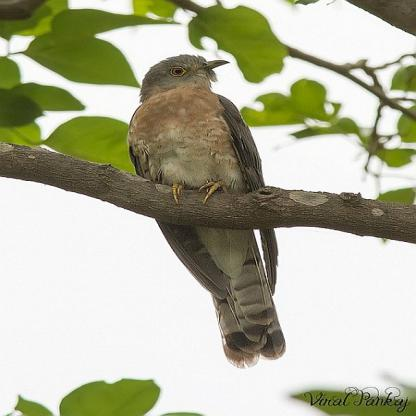Burung: (126, 53, 286, 368)
